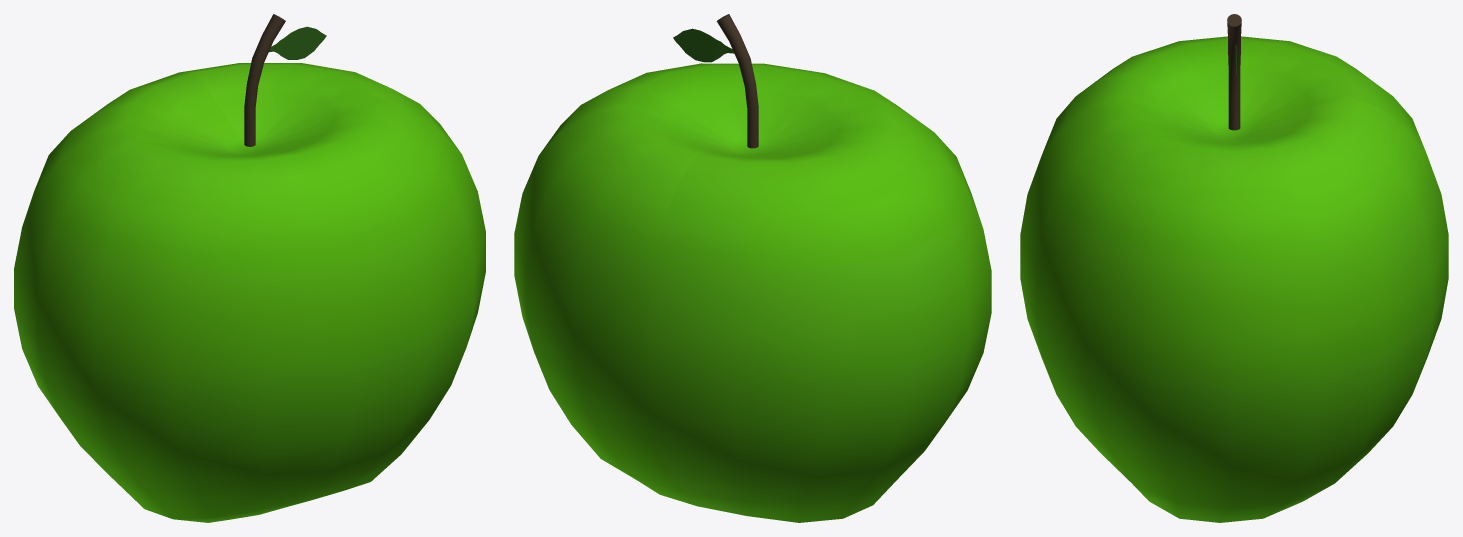
File: manzana.fbx
3 renders of one model, left to right at view 1: azimuth 30°, elevation 25°; view 2: azimuth 150°, elevation 25°; view 3: azimuth 270°, elevation 25°, orthographic. The views are drawn at different scales.
Visible parts, largest first — view 1: polySurface1; view 2: polySurface1; view 3: polySurface1.
Boxes of the visible parts, box(x1,y1,x2,y2) form: polySurface1: box(14, 14, 485, 522); polySurface1: box(514, 14, 991, 522); polySurface1: box(1020, 14, 1448, 522).
Bounding box in the file's own units: 1.99 × 2.13 × 1.7.
